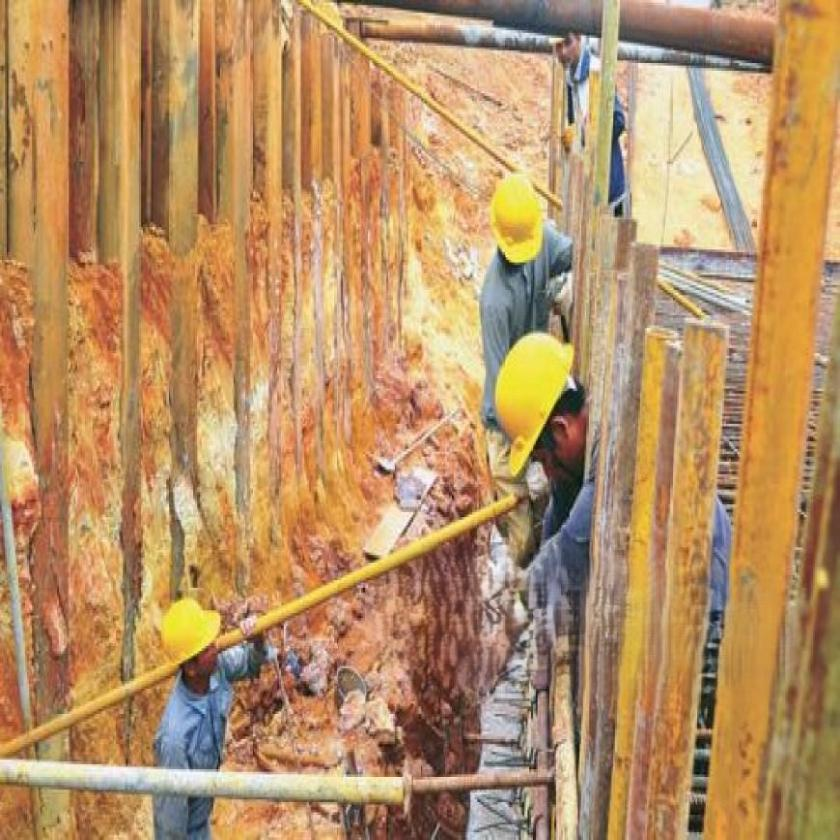Con_casco: (495, 331, 591, 495), (159, 598, 224, 692)
